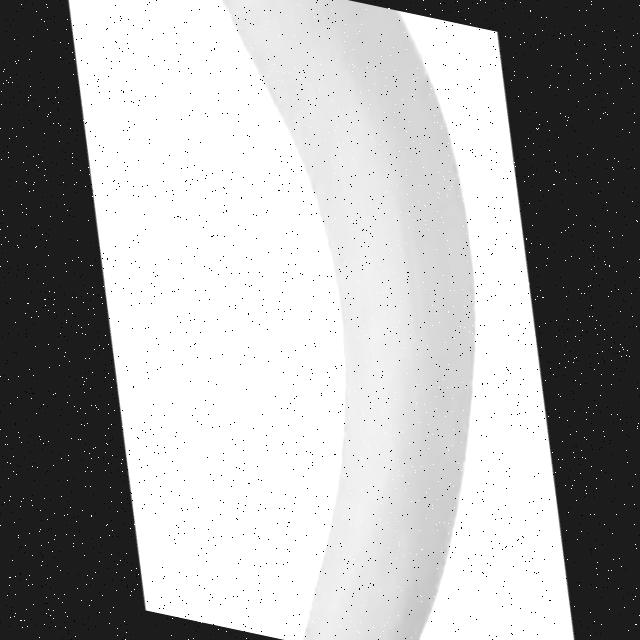banana: (68, 0, 559, 640)
